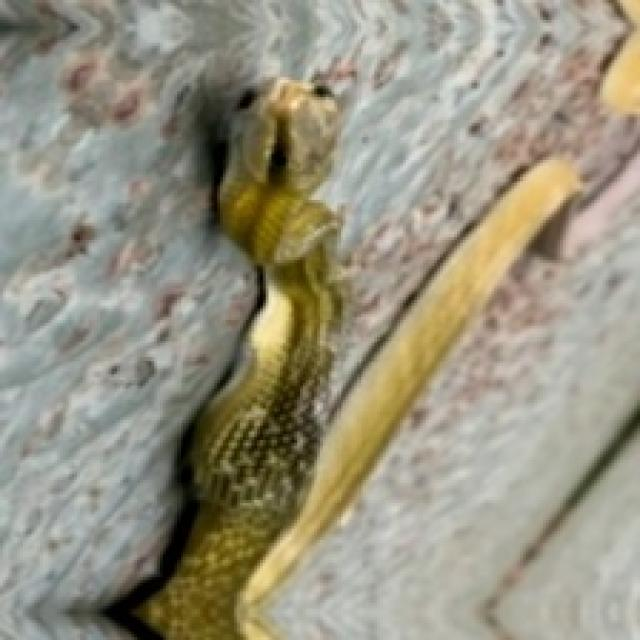red-tailed green ratsnake: (137, 80, 577, 637), (134, 77, 340, 637)
